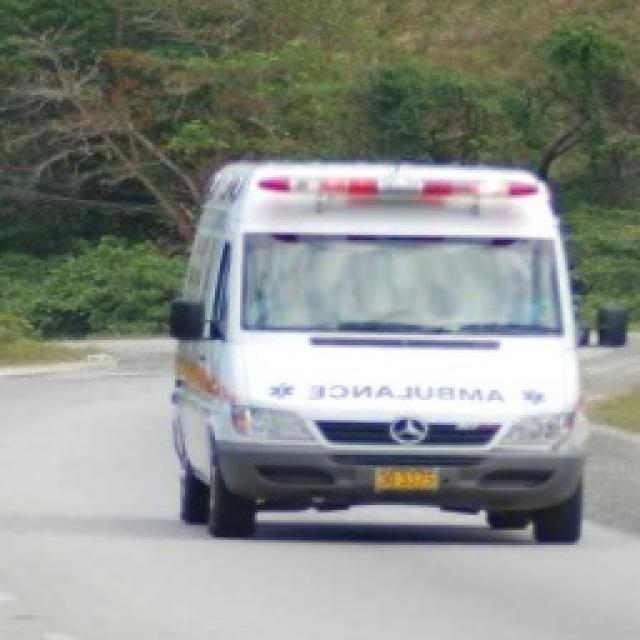emergency-vehicle: (170, 149, 632, 545)
